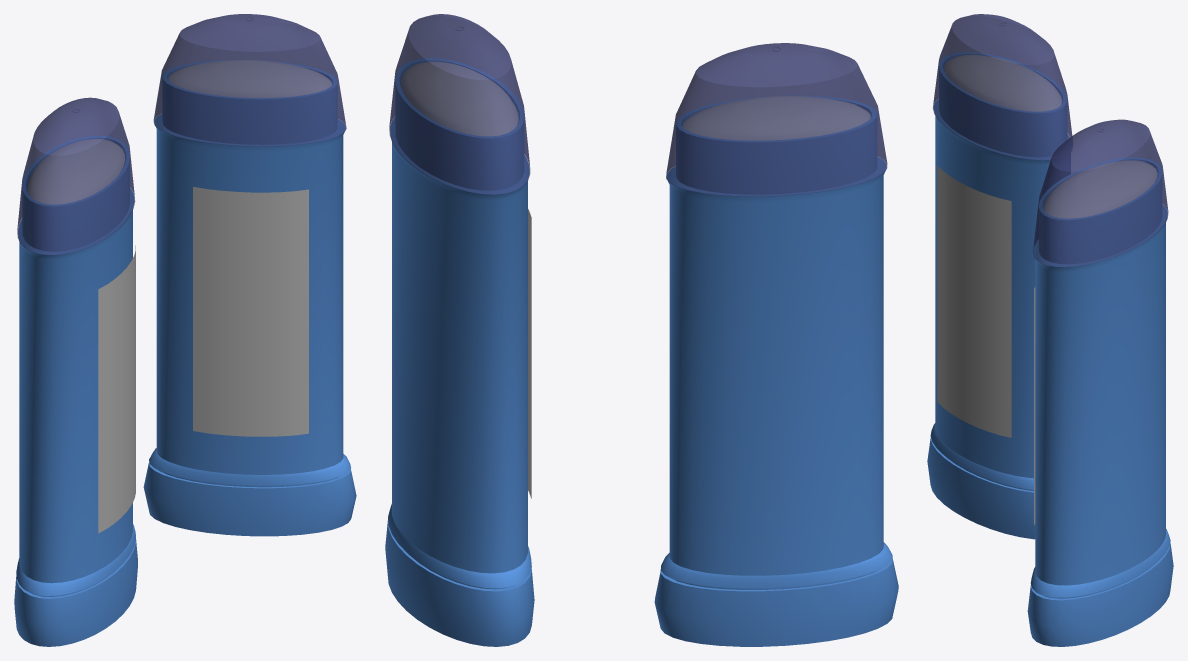
The picture shows the model from 3 angles, left to right: view 1: azimuth 30°, elevation 25°; view 2: azimuth 150°, elevation 25°; view 3: azimuth 270°, elevation 25°; orthographic projection. The views are drawn at different scales.
Parts seen in each view (by area): view 1: deo_body.001, deo_body, Label.001, deo_lid.001, deo_lid, Label, deo_insidestuff.001, deo_insidestuff; view 2: deo_body, deo_body.001, deo_lid, deo_lid.001, deo_insidestuff, deo_insidestuff.001, Label.001; view 3: deo_body.001, deo_body, Label, deo_lid, deo_lid.001, deo_insidestuff, deo_insidestuff.001, Label.001.
Boxes of the visible parts, <box> form: deo_body.001: <box>143,60,356,536</box>; deo_body: <box>14,136,137,646</box>; Label.001: <box>193,187,308,436</box>; deo_lid.001: <box>153,14,346,146</box>; deo_lid: <box>17,97,135,255</box>; Label: <box>98,245,135,533</box>; deo_insidestuff.001: <box>168,60,331,97</box>; deo_insidestuff: <box>27,139,124,204</box>; deo_body: <box>654,96,898,646</box>; deo_body.001: <box>385,58,534,646</box>; deo_lid: <box>666,43,887,196</box>; deo_lid.001: <box>389,14,530,194</box>; deo_insidestuff: <box>683,96,870,140</box>; deo_insidestuff.001: <box>401,62,518,136</box>; Label.001: <box>528,209,531,498</box>; deo_body.001: <box>1027,158,1173,646</box>; deo_body: <box>927,52,1069,539</box>; Label: <box>937,165,1011,437</box>; deo_lid: <box>933,14,1072,160</box>; deo_lid.001: <box>1033,119,1168,267</box>; deo_insidestuff: <box>944,55,1061,111</box>; deo_insidestuff.001: <box>1044,160,1157,218</box>; Label.001: <box>1034,287,1035,525</box>.
Size of what is drawn, in the model's own units: 4.33 by 5.38 by 2.5.
